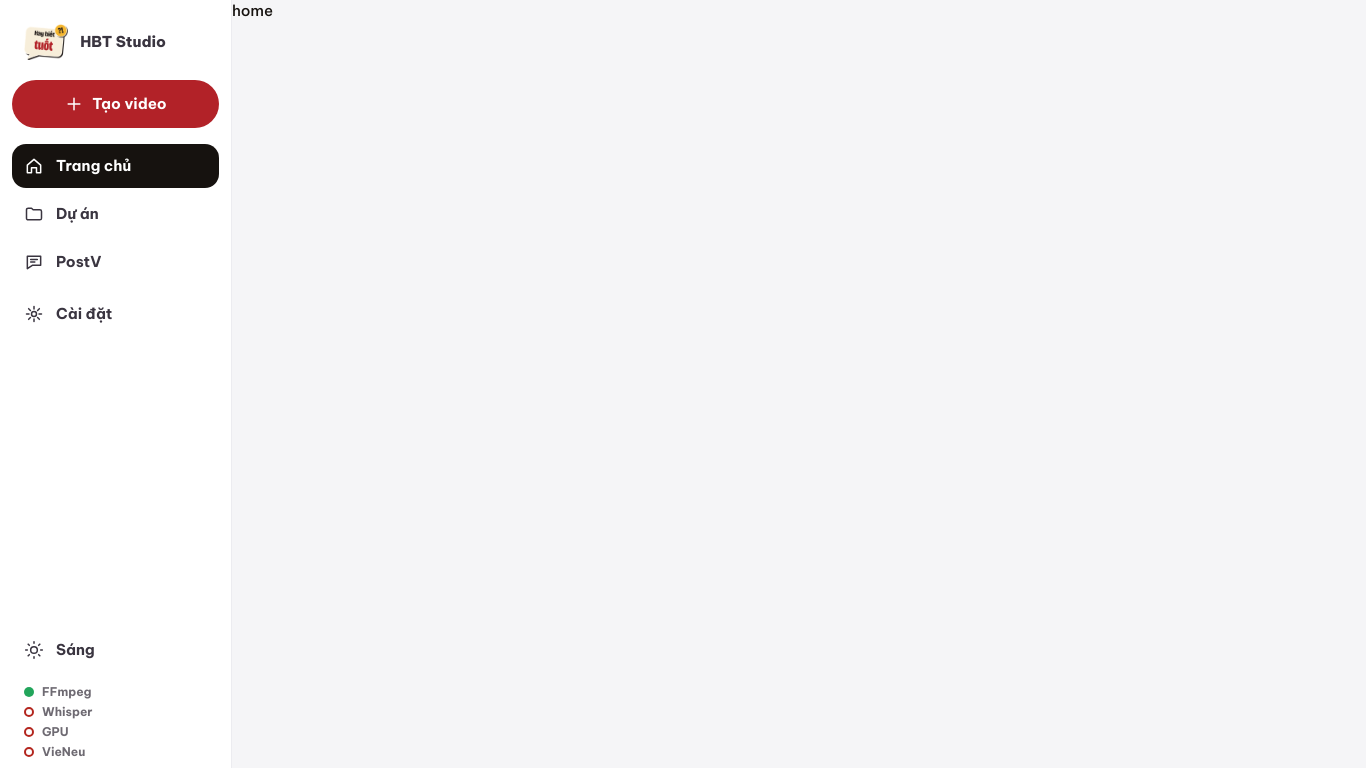
Scenario: nút Sáng ↔ Tối ở thanh trái › shows the current mode, and a click switches, applies and remembers it
This screenshot has width=1366, height=768.
Click the button with aria-label "Đổi sang chế độ tối": (116, 650) [12, 628, 219, 672]
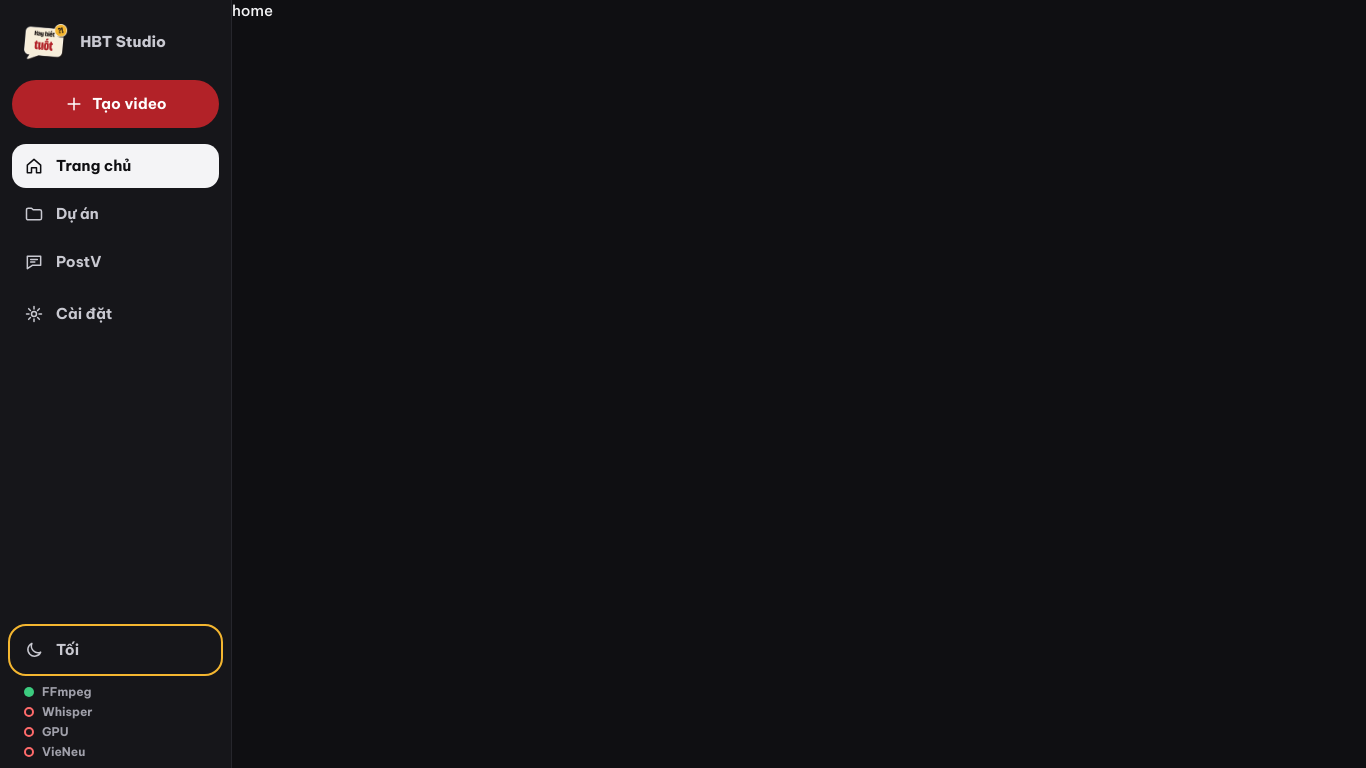
Result: the button with aria-label "Đổi sang chế độ sáng" reads "Tối" at [12, 628, 219, 672]
